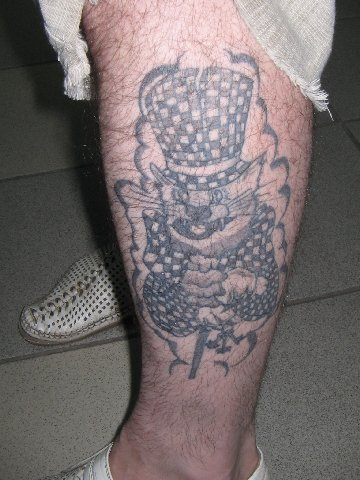tatu8_kot: (111, 53, 296, 378)
